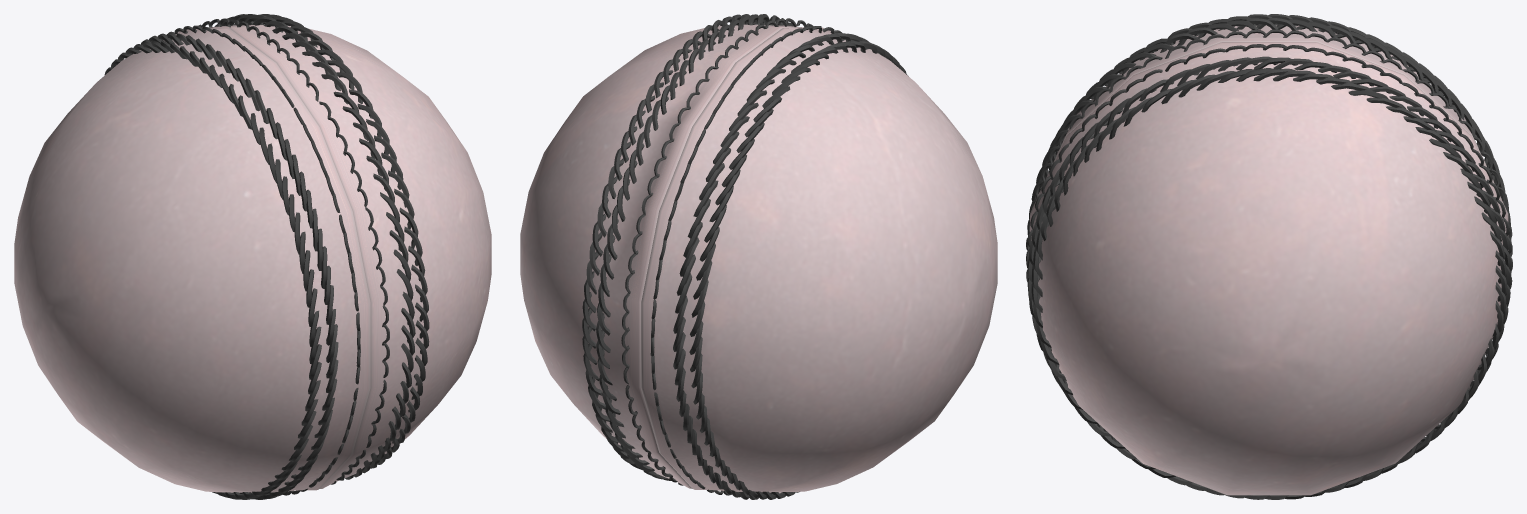
Rendered from ball_white_2048.glb.
The picture shows the model from 3 angles, left to right: view 1: azimuth 30°, elevation 25°; view 2: azimuth 150°, elevation 25°; view 3: azimuth 270°, elevation 25°; orthographic projection.
Parts seen in each view (by area): view 1: ball; view 2: ball; view 3: ball.
Boxes of the visible parts, box(x1,y1,x2,y2) form: ball: box(14, 14, 491, 499); ball: box(520, 14, 997, 499); ball: box(1026, 14, 1512, 499).
Bounding box in the file's own units: 0.0711 × 0.0709 × 0.0709.
Materials: 2 (1 with a texture image).
